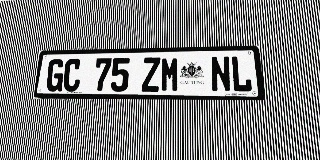5: (111, 58, 130, 92)
7: (93, 58, 112, 92)
C: (62, 59, 82, 92)
G: (45, 59, 65, 92)
L: (230, 56, 253, 92)
M: (160, 57, 179, 92)
N: (210, 56, 231, 92)
Z: (141, 57, 160, 92)
